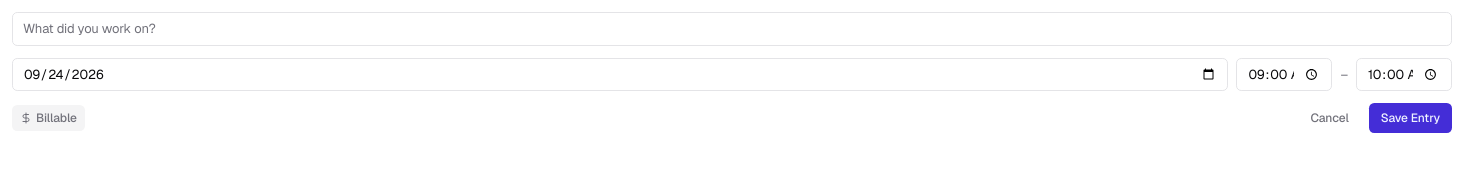
Test case: ManualTimeEntryForm › should show "Saving..." text while submitting
This screenshot has width=1464, height=172.
Click the button "Save Entry": (1410, 118) [1369,103,1452,133]
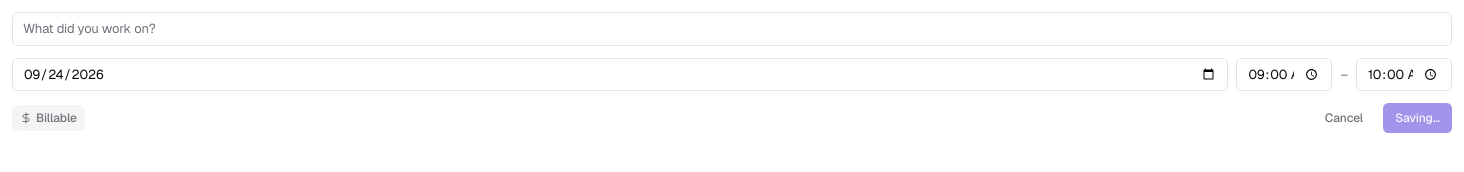
Expected: the button "Saving..." is shown, [1383,103,1452,133]
